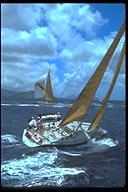sailboat: (20, 16, 127, 152), (33, 66, 56, 104)
sky: (2, 6, 82, 66)
water: (2, 152, 125, 188)
